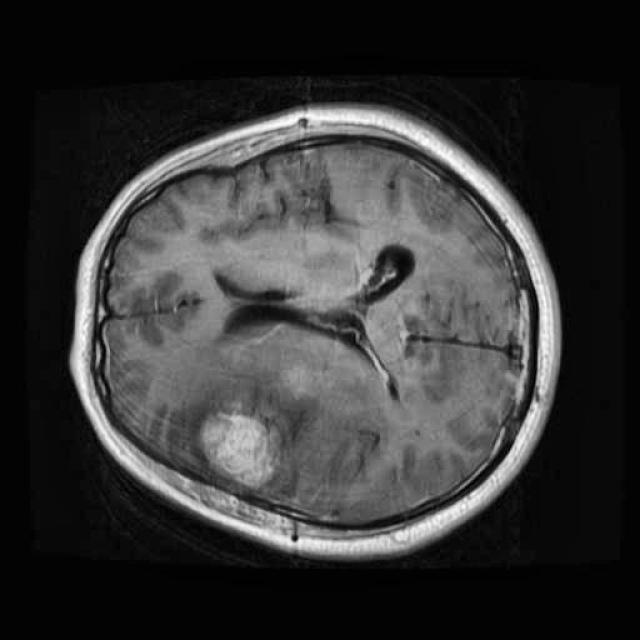Tumor: (191, 390, 293, 504)
